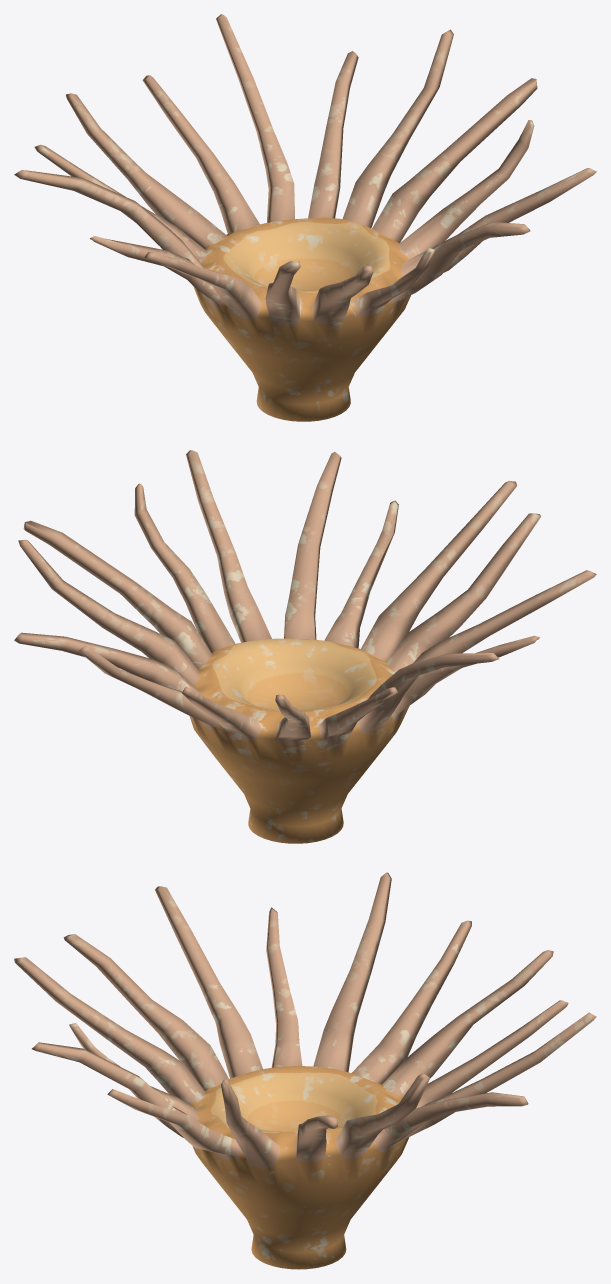
File: northPoleAnemone00.fbx
The picture shows the model from 3 angles, top to bottom: view 1: azimuth 30°, elevation 25°; view 2: azimuth 150°, elevation 25°; view 3: azimuth 270°, elevation 25°; orthographic projection.
Parts seen in each view (by area): view 1: northPoleAnemone_final; view 2: northPoleAnemone_final; view 3: northPoleAnemone_final.
Part boxes in pixels (x1,y1,x2,y2): northPoleAnemone_final: [14, 14, 596, 421]; northPoleAnemone_final: [14, 450, 596, 843]; northPoleAnemone_final: [14, 872, 596, 1269].
Size of the model in its own units: 155 by 82.21 by 157.
Materials: 1 (1 with a texture image).
